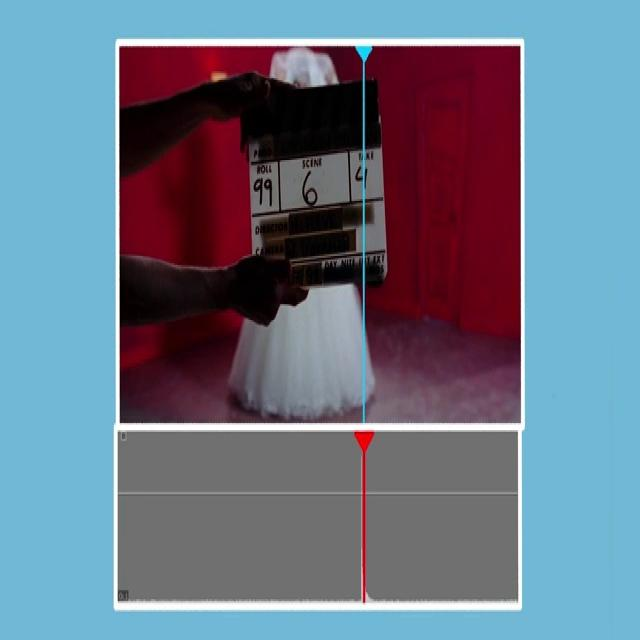Clapperboard: (240, 70, 390, 290)
